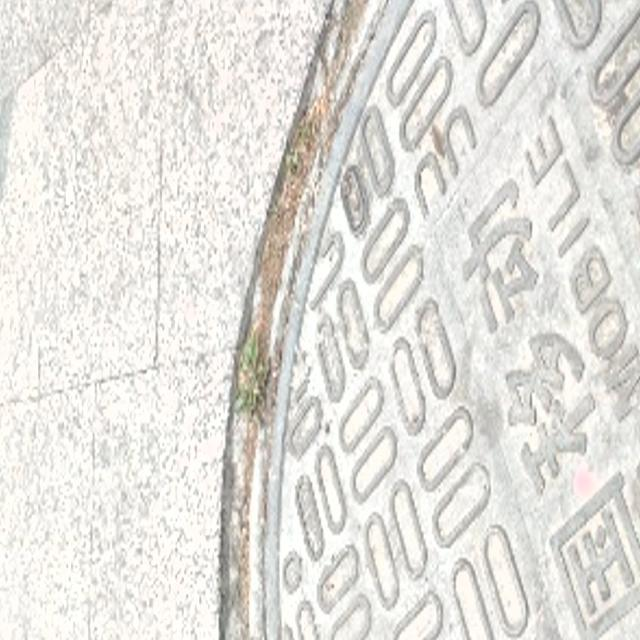good: (223, 0, 640, 640)
